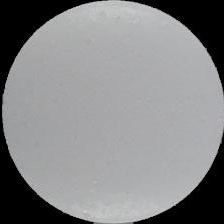68788-8926: (0, 0, 224, 224)
